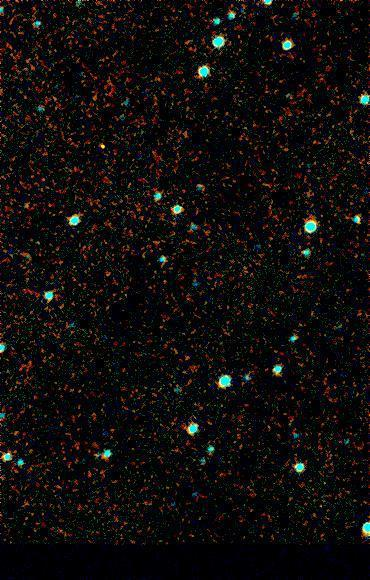star: (86, 134, 116, 164)
